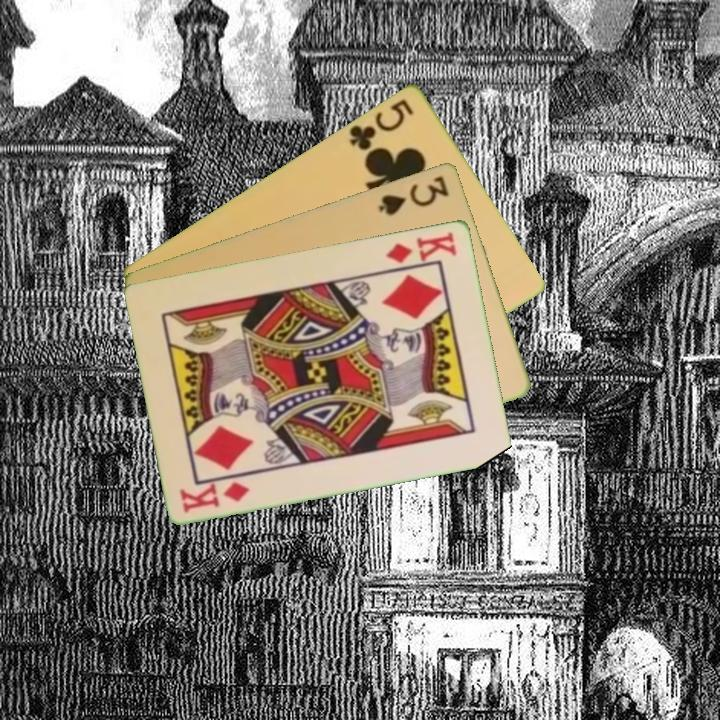3s: (375, 171, 452, 218)
5c: (345, 95, 417, 153)
Kd: (382, 227, 460, 266), (177, 477, 252, 515)
